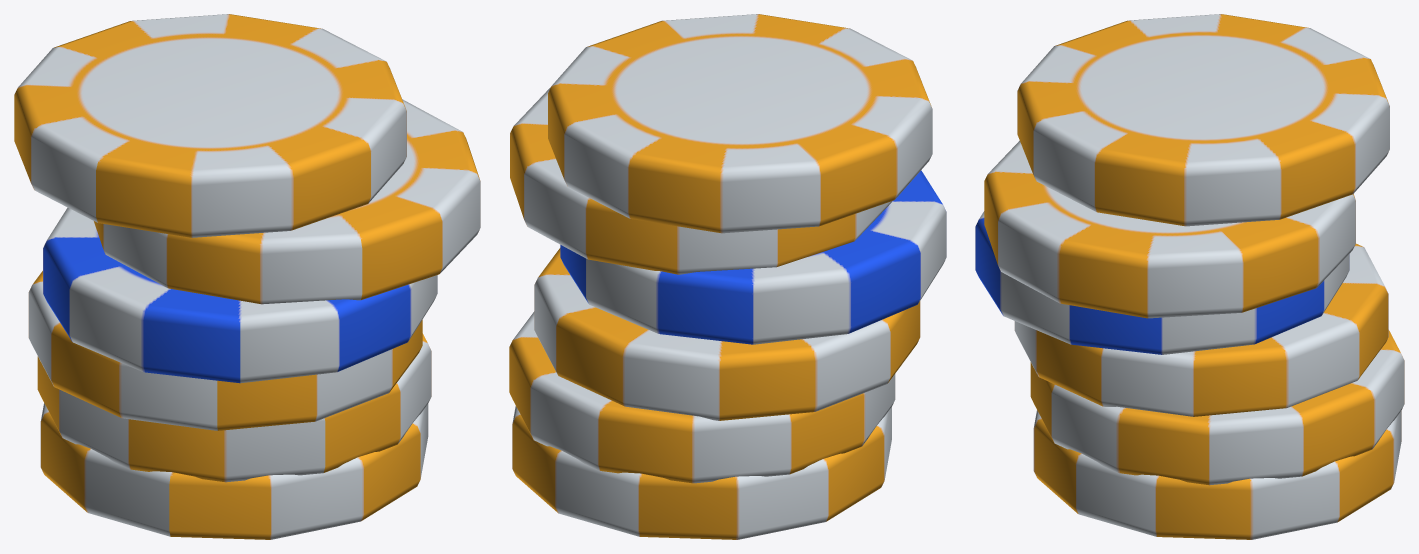
File: zhangai_2.fbx
3 views of the same model, side by side, from view 1: azimuth 30°, elevation 25°; view 2: azimuth 150°, elevation 25°; view 3: azimuth 270°, elevation 25° (orthographic). The views are drawn at different scales.
Parts seen in each view (by area): view 1: polySurface32, polySurface29; view 2: polySurface32, polySurface29; view 3: polySurface32, polySurface29.
Part boxes in pixels (x1=…): polySurface32: x1=14, y1=14, x2=480, y2=536; polySurface29: x1=37, y1=333, x2=431, y2=539; polySurface32: x1=510, y1=14, x2=946, y2=539; polySurface29: x1=509, y1=311, x2=864, y2=539; polySurface32: x1=975, y1=14, x2=1389, y2=416; polySurface29: x1=1030, y1=330, x2=1404, y2=539.
Size of the model in its own units: 105 by 96.62 by 103.
